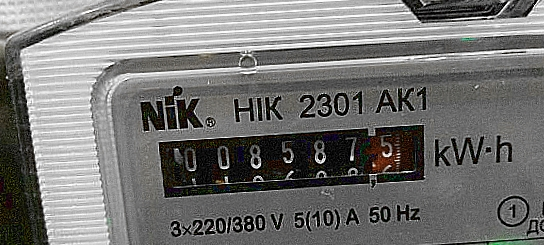0: (180, 143, 199, 173), (214, 142, 233, 171)
5: (378, 131, 396, 161), (278, 137, 296, 166)
7: (342, 132, 360, 163)
8: (310, 135, 329, 166), (246, 141, 264, 170)
screen: (139, 108, 445, 209)
